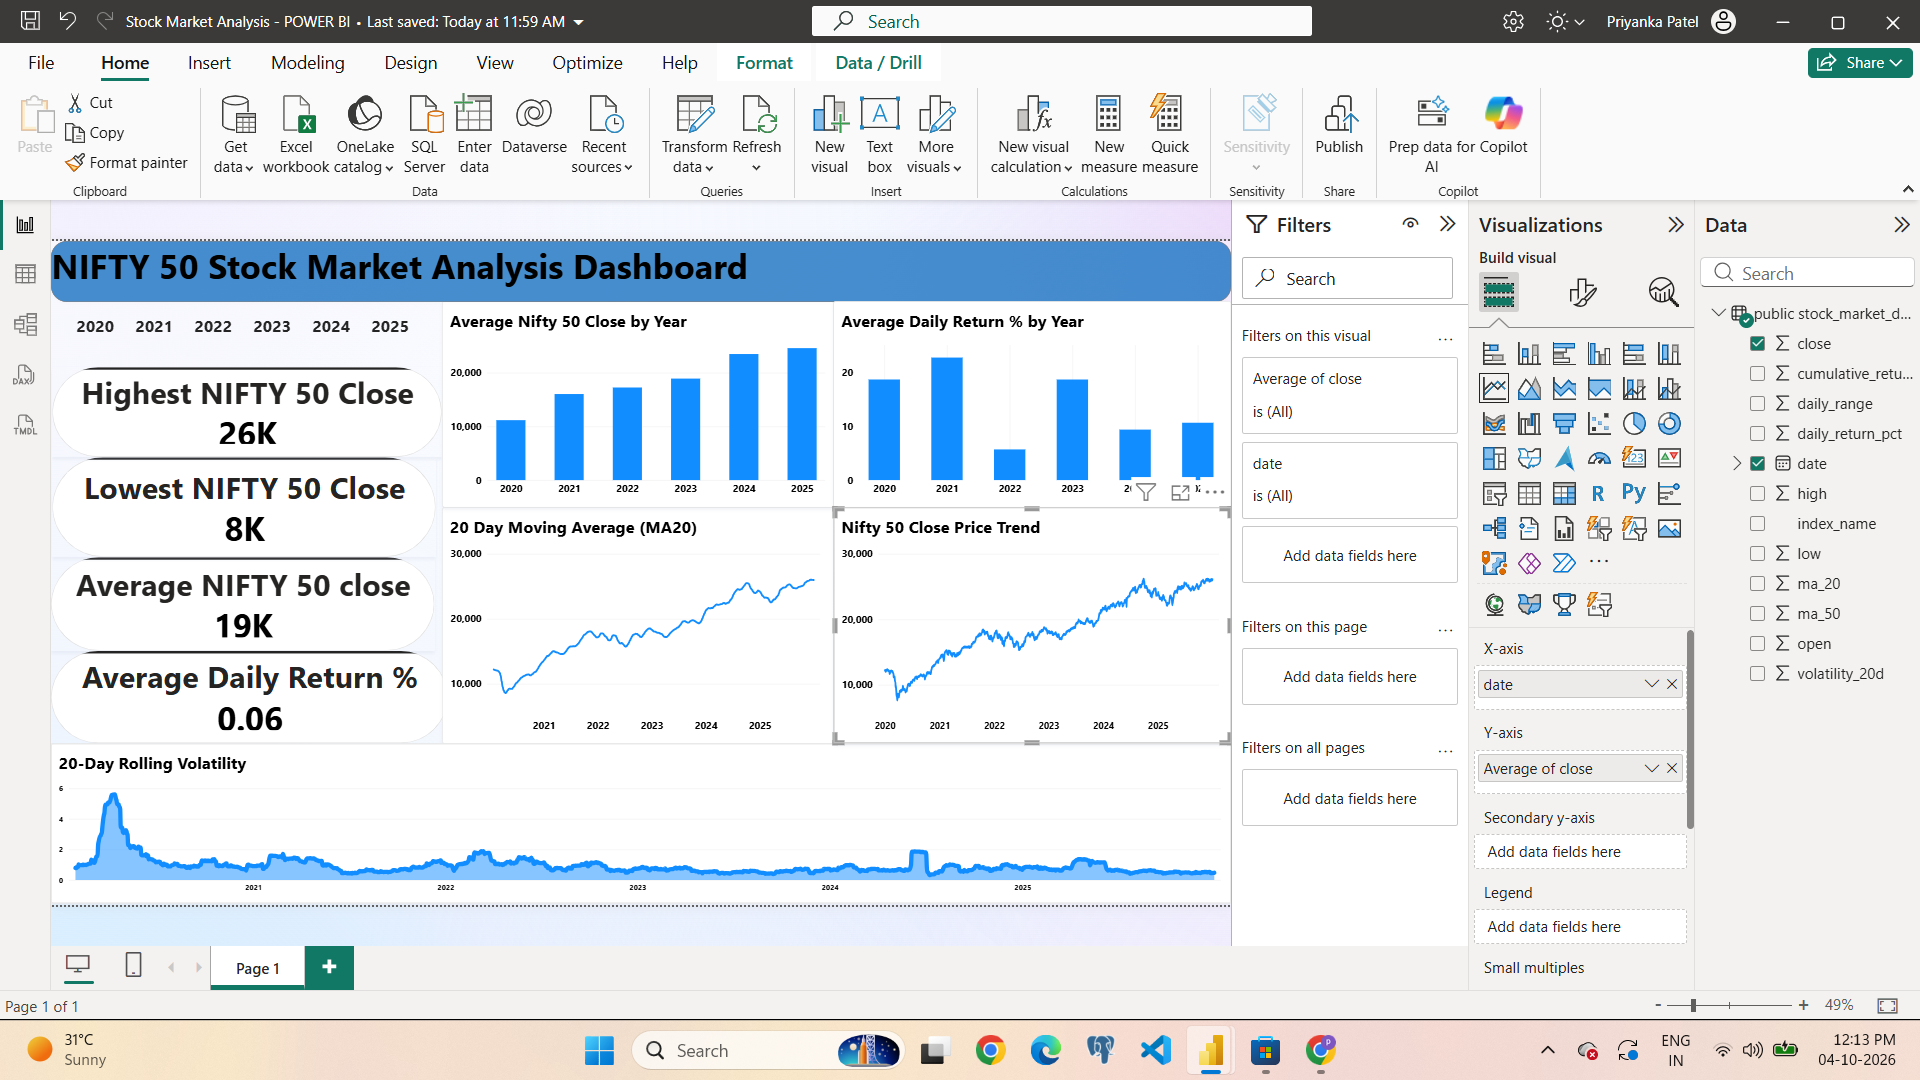

The dashboard page shown, as its layout file describes it:
{"tool":"powerbi","page":{"name":"Page 1","canvas":[1920,1080],"ordinal":0},"visuals":[{"type":"cardVisual","fields":{"Data":["Avg(public stock_market_data.close)"]},"box":[0,514.7,624.5,152.6],"z":0},{"type":"cardVisual","fields":{"Data":["Avg(public stock_market_data.daily_return_pct)"]},"box":[0,667.3,646.9,150.5],"z":1000},{"type":"cardVisual","fields":{"Data":["Min(public stock_market_data.close)"]},"box":[2,351.9,624.5,162.7],"z":2000},{"type":"cardVisual","fields":{"Data":["Max(public stock_market_data.close)"]},"box":[2,205.5,634.7,146.5],"z":3000},{"type":"lineChart","title":"Nifty 50 Close Price Trend","fields":{"Category":["public stock_market_data.date"],"Y":["Avg(public stock_market_data.close)"]},"box":[1273.5,433.3,646.9,384.5],"z":4000},{"type":"lineChart","title":"20 Day Moving Average (MA20)","fields":{"Category":["public stock_market_data.date"],"Y":["Avg(public stock_market_data.ma_20)"]},"box":[636.7,433.3,636.7,384.5],"z":5000},{"type":"clusteredColumnChart","title":"Average Nifty 50 Close by Year","fields":{"Category":["public stock_market_data.date.Variation.Date Hierarchy.Year"],"Y":["Avg(public stock_market_data.close)"]},"box":[636.7,97.6,636.7,335.7],"z":6000},{"type":"lineChart","title":"20-Day Rolling Volatility","fields":{"Category":["public stock_market_data.date"],"Y":["Avg(public stock_market_data.volatility_20d)"]},"box":[0,817.8,1920.4,260.4],"z":7000},{"type":"textbox","box":[680.5,869.9,643.1,114.5],"z":8000},{"type":"textbox","box":[0,0,1920.4,99.1],"z":9000},{"type":"advancedSlicerVisual","title":"YEAR","fields":{"Values":["public stock_market_data.date.Variation.Date Hierarchy.Year"]},"box":[8.1,99.7,610.3,77.3],"z":10000},{"type":"clusteredColumnChart","title":"Average Daily Return % by Year","fields":{"Category":["public stock_market_data.date.Variation.Date Hierarchy.Year","public stock_market_data.date.Variation.Date Hierarchy.Quarter","public stock_market_data.date.Variation.Date Hierarchy.Month","public stock_market_data.date.Variation.Date Hierarchy.Day"],"Y":["Sum(public stock_market_data.daily_return_pct)"]},"box":[1273.5,97.6,646.9,335.7],"z":10001}]}

Visuals, with their boxes on the page's 1920x1080 design canvas (x1, y1, x2, y2). These are canvas units, not pixel positions in the 1920x1080 screenshot, which may show the page scaled, cropped or inside an application window:
cardVisual - Avg(public stock_market_data.close): {"left": 0, "top": 515, "right": 624, "bottom": 667}
cardVisual - Avg(public stock_market_data.daily_return_pct): {"left": 0, "top": 667, "right": 647, "bottom": 818}
cardVisual - Min(public stock_market_data.close): {"left": 2, "top": 352, "right": 626, "bottom": 515}
cardVisual - Max(public stock_market_data.close): {"left": 2, "top": 206, "right": 637, "bottom": 352}
"Nifty 50 Close Price Trend" lineChart: {"left": 1274, "top": 433, "right": 1920, "bottom": 818}
"20 Day Moving Average (MA20)" lineChart: {"left": 637, "top": 433, "right": 1273, "bottom": 818}
"Average Nifty 50 Close by Year" clusteredColumnChart: {"left": 637, "top": 98, "right": 1273, "bottom": 433}
"20-Day Rolling Volatility" lineChart: {"left": 0, "top": 818, "right": 1920, "bottom": 1078}
textbox: {"left": 680, "top": 870, "right": 1324, "bottom": 984}
textbox: {"left": 0, "top": 0, "right": 1920, "bottom": 99}
"YEAR" advancedSlicerVisual: {"left": 8, "top": 100, "right": 618, "bottom": 177}
"Average Daily Return % by Year" clusteredColumnChart: {"left": 1274, "top": 98, "right": 1920, "bottom": 433}
